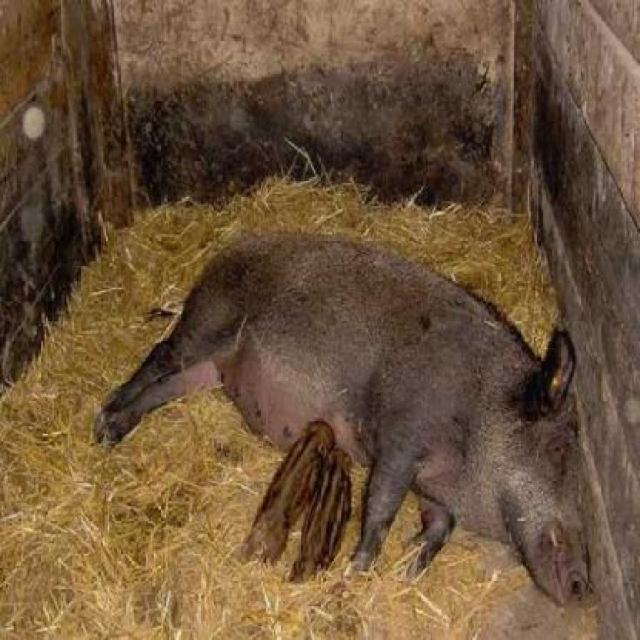pig: (11, 58, 639, 631)
